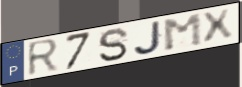7: (64, 30, 93, 73)
J: (132, 19, 165, 57)
M: (161, 12, 205, 53)
R: (26, 37, 62, 79)
S: (97, 27, 130, 63)
X: (200, 7, 236, 46)
